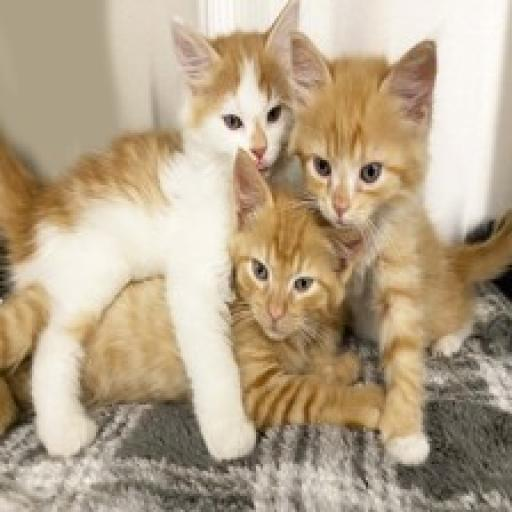cat: (0, 5, 298, 468), (0, 140, 393, 441), (276, 11, 512, 468)
